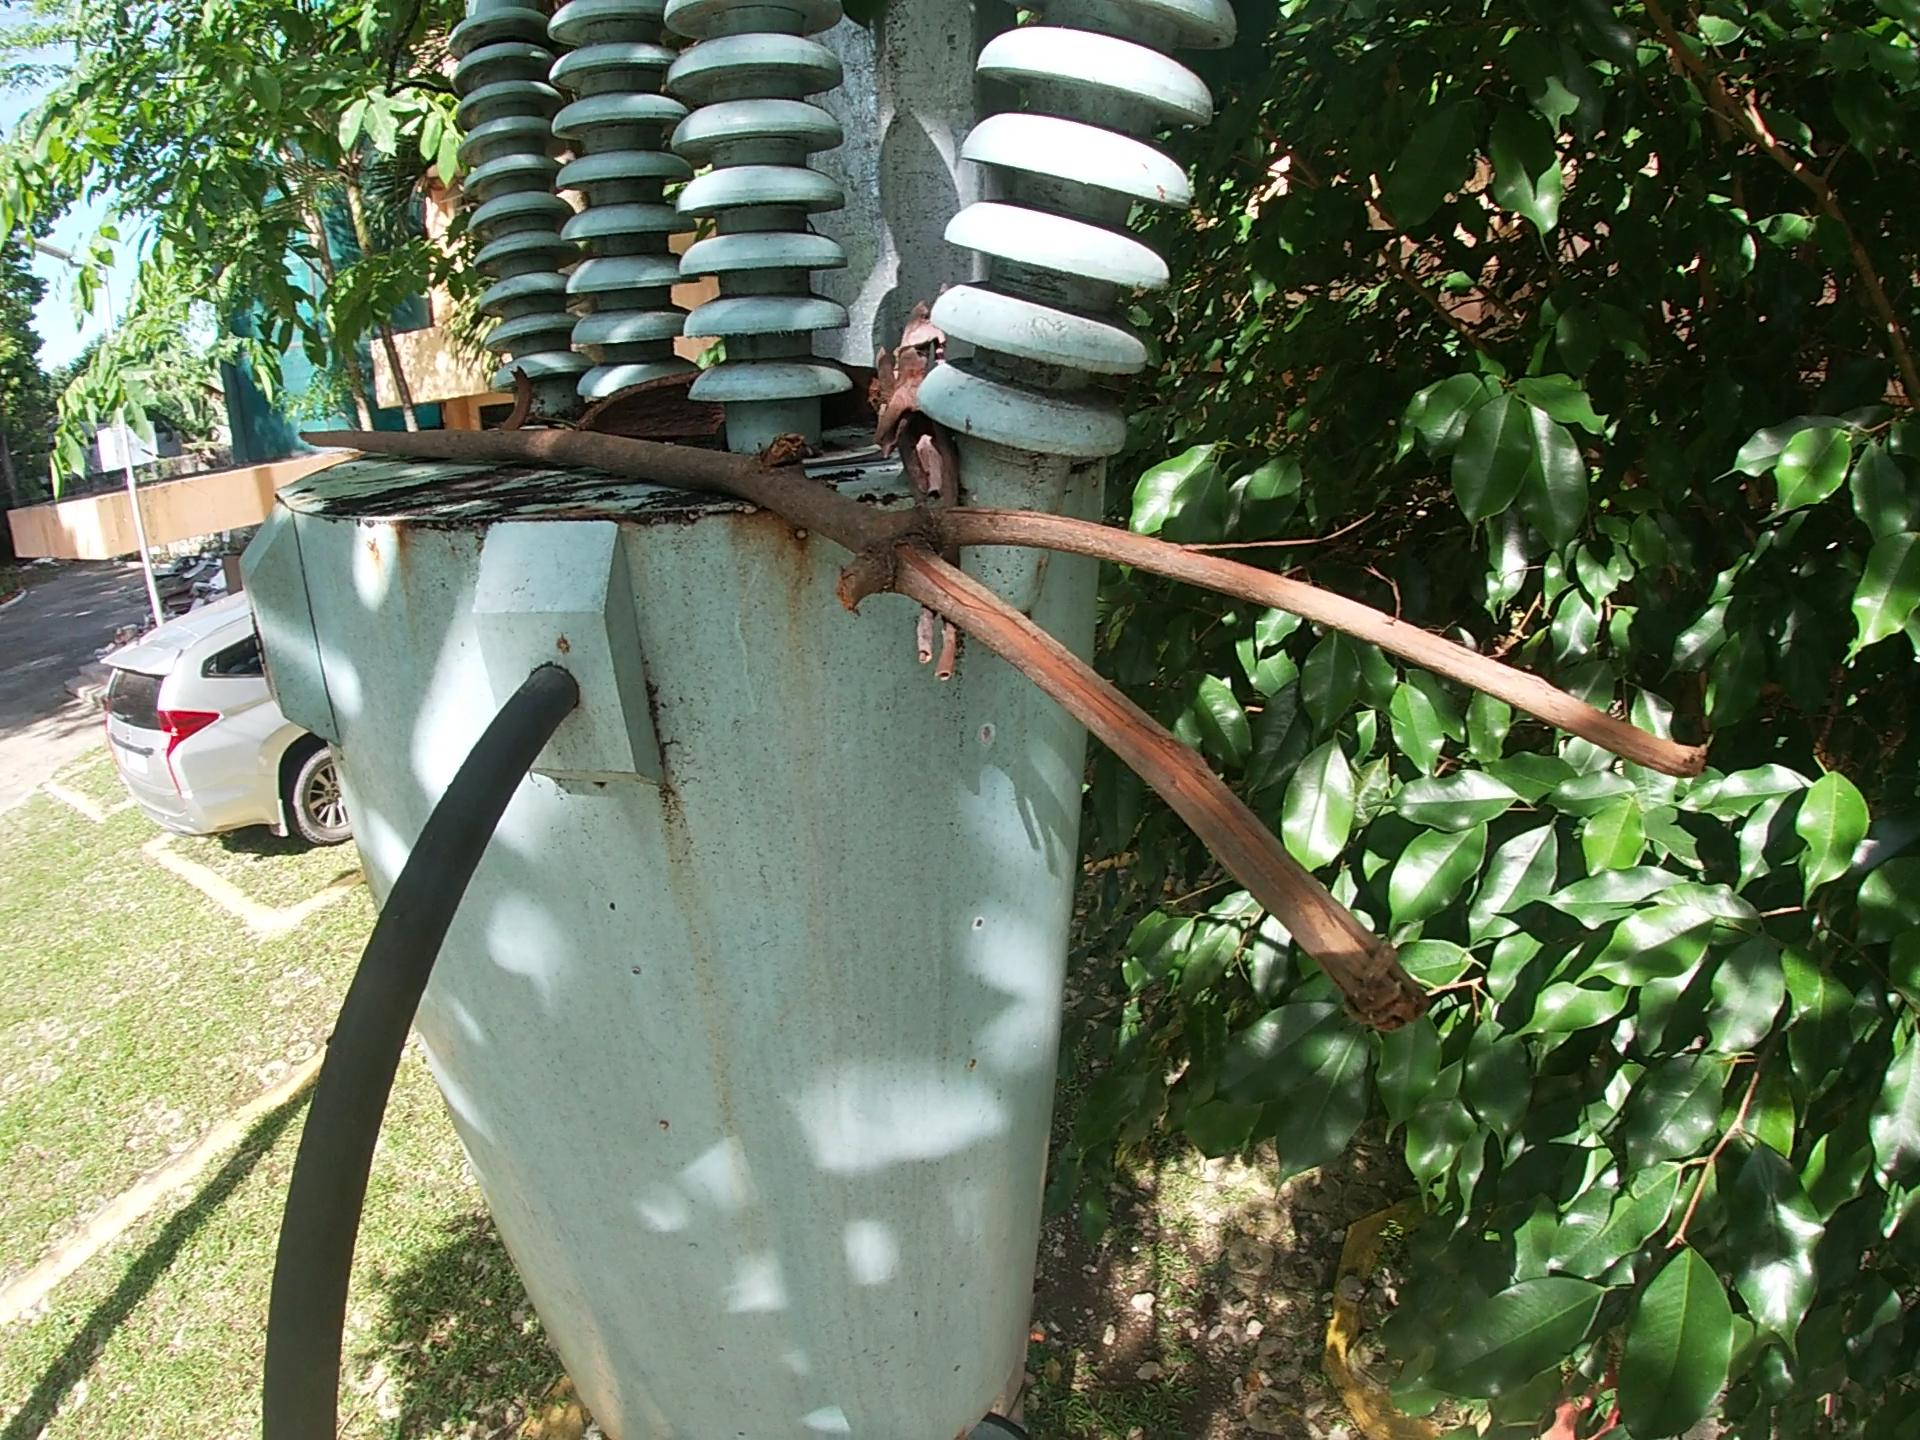mahogany fruit: (568, 355, 893, 448), (487, 362, 544, 433)
tree branch: (304, 411, 1730, 1041), (856, 295, 974, 693)
